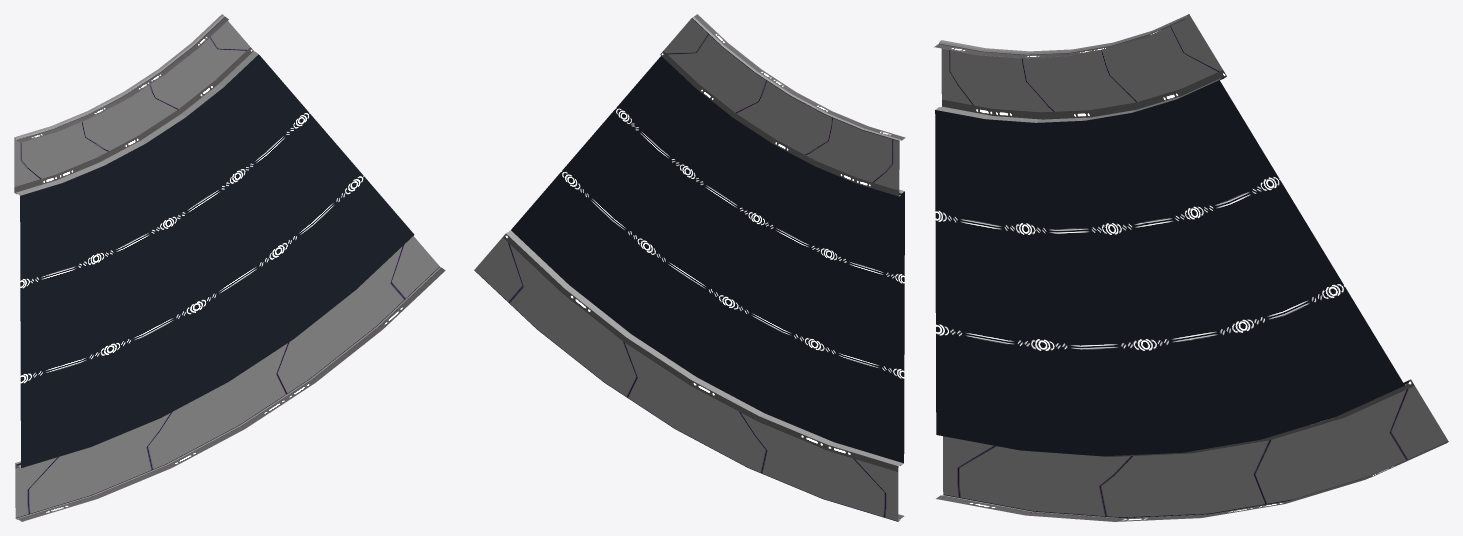
Rendered from SM_M_Road45 1.fbx.
3 views of the same model, side by side, from view 1: azimuth 30°, elevation 25°; view 2: azimuth 150°, elevation 25°; view 3: azimuth 330°, elevation 25° (orthographic). The views are drawn at different scales.
Parts seen in each view (by area): view 1: SM_M_Road45; view 2: SM_M_Road45; view 3: SM_M_Road45.
Part boxes in pixels (<box>): SM_M_Road45: <box>14,14,445,521</box>; SM_M_Road45: <box>474,14,905,521</box>; SM_M_Road45: <box>934,14,1448,521</box>.
Bounding box in the file's own units: 4599 × 119 × 4687.
